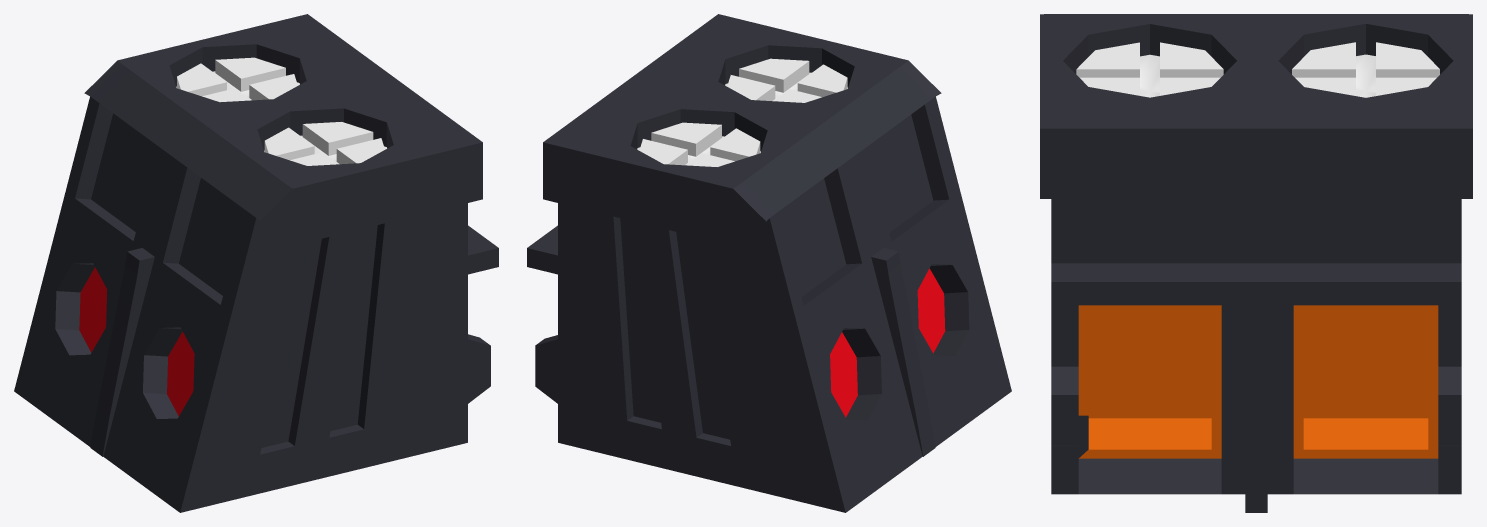
Rendered from PlugNode3_End.fbx.
3 views of the same model, side by side, from view 1: azimuth 30°, elevation 25°; view 2: azimuth 150°, elevation 25°; view 3: azimuth 270°, elevation 25° (orthographic). The views are drawn at different scales.
Parts seen in each view (by area): view 1: PlugNode3_End; view 2: PlugNode3_End; view 3: PlugNode3_End.
Part boxes in pixels (<box>): PlugNode3_End: <box>14,14,498,512</box>; PlugNode3_End: <box>527,14,1011,512</box>; PlugNode3_End: <box>1040,14,1472,512</box>.
Bounding box in the file's own units: 43.48 × 39.17 × 41.33.
